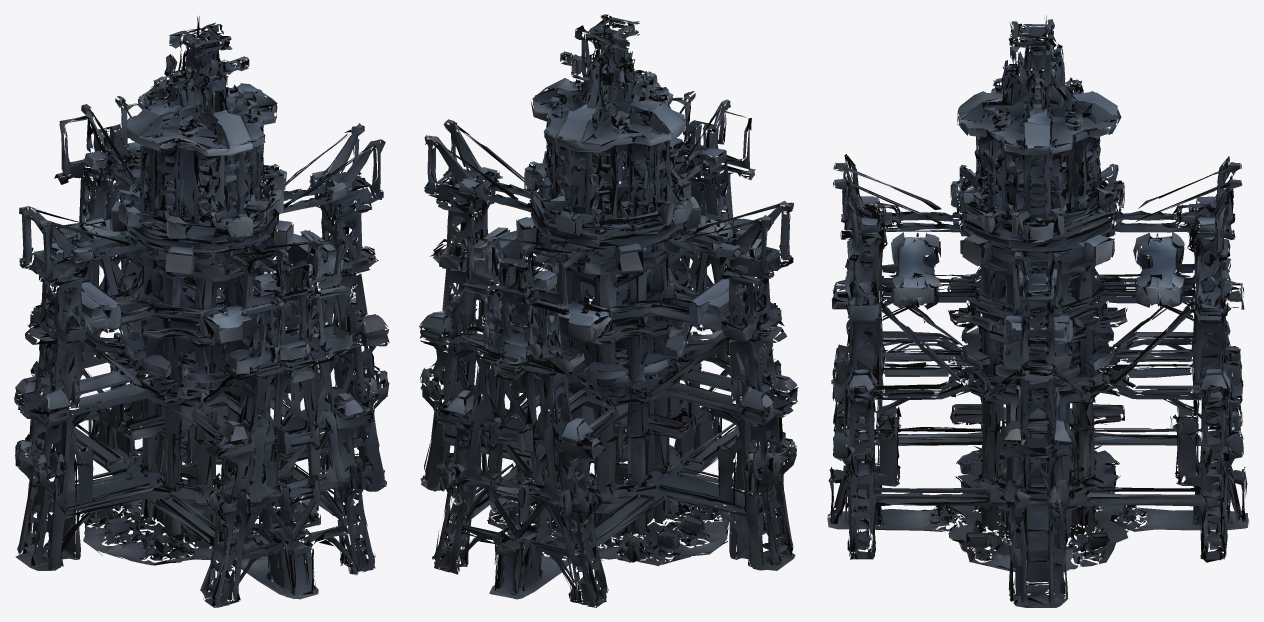
File: fondor-gantry.hq.glb
The picture shows the model from 3 angles, left to right: view 1: azimuth 30°, elevation 25°; view 2: azimuth 150°, elevation 25°; view 3: azimuth 270°, elevation 25°; orthographic projection.
Visible parts, largest first — view 1: low; view 2: low; view 3: low.
Part boxes in pixels (x1,y1,x2,y2): low: (14,16,389,607); low: (419,14,798,607); low: (827,15,1249,607).
Size of the model in its own units: 0.7411 by 0.9991 by 0.7509.
1 material, 1 textured.
